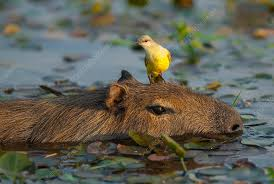capivara: (1, 70, 245, 151)
